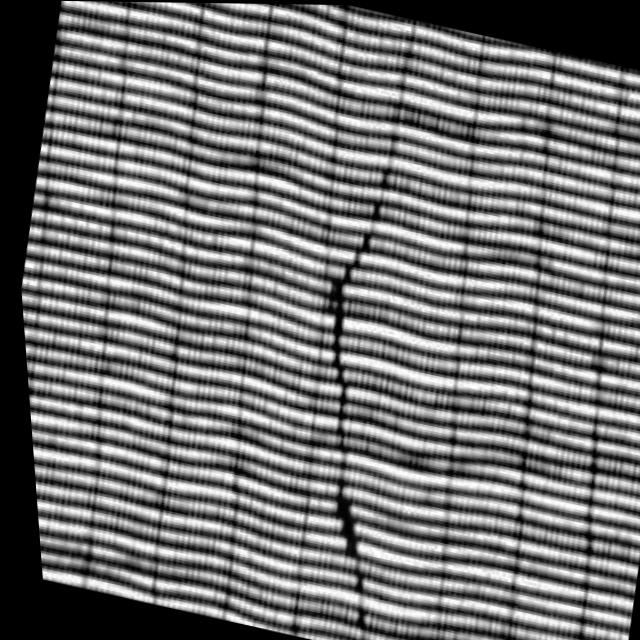Stitch: (213, 150, 486, 640)
